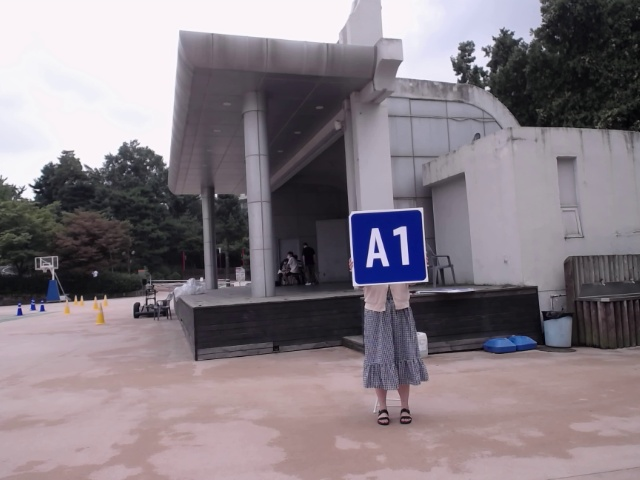delivery_a1: (350, 209, 428, 286)
